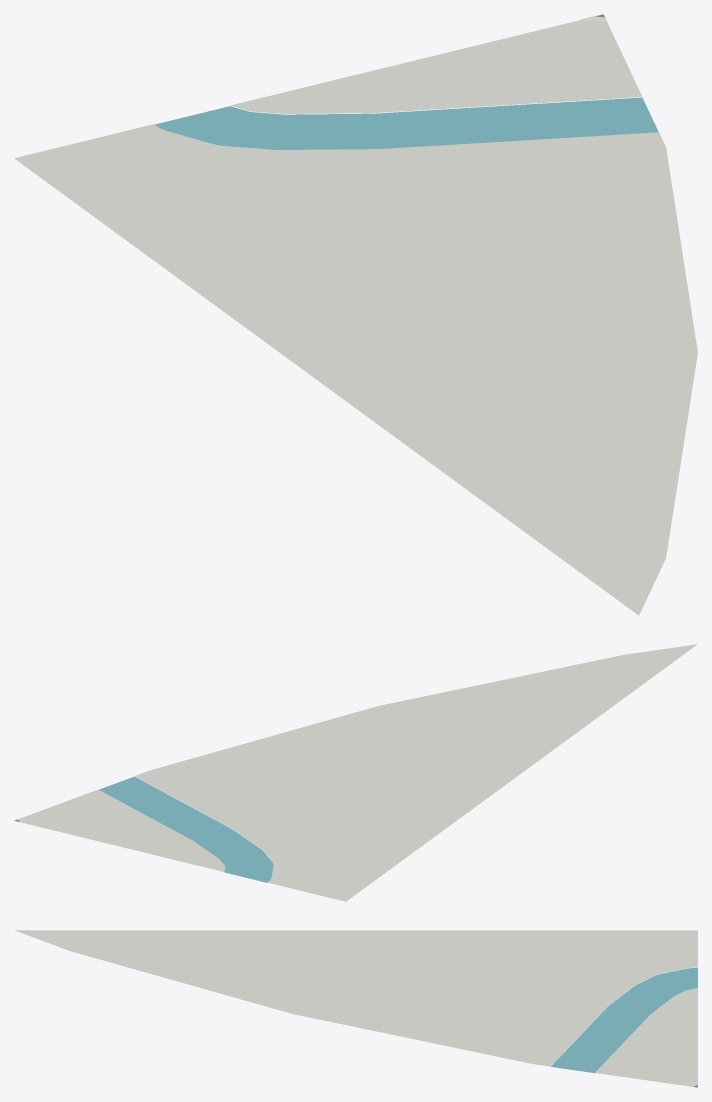
The picture shows the model from 3 angles, top to bottom: view 1: azimuth 30°, elevation 25°; view 2: azimuth 150°, elevation 25°; view 3: azimuth 270°, elevation 25°; orthographic projection. The views are drawn at different scales.
Parts seen in each view (by area): view 1: city; view 2: city; view 3: city.
Boxes of the visible parts, <box> form: city: <box>14,14,697,615</box>; city: <box>14,644,697,901</box>; city: <box>15,930,697,1087</box>.
Size of the model in its own units: 192 by 0.4 by 352.
